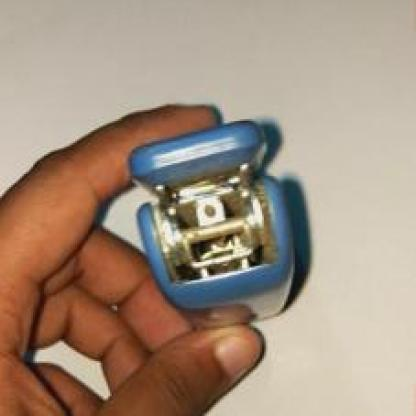stapler: (92, 102, 310, 332)
